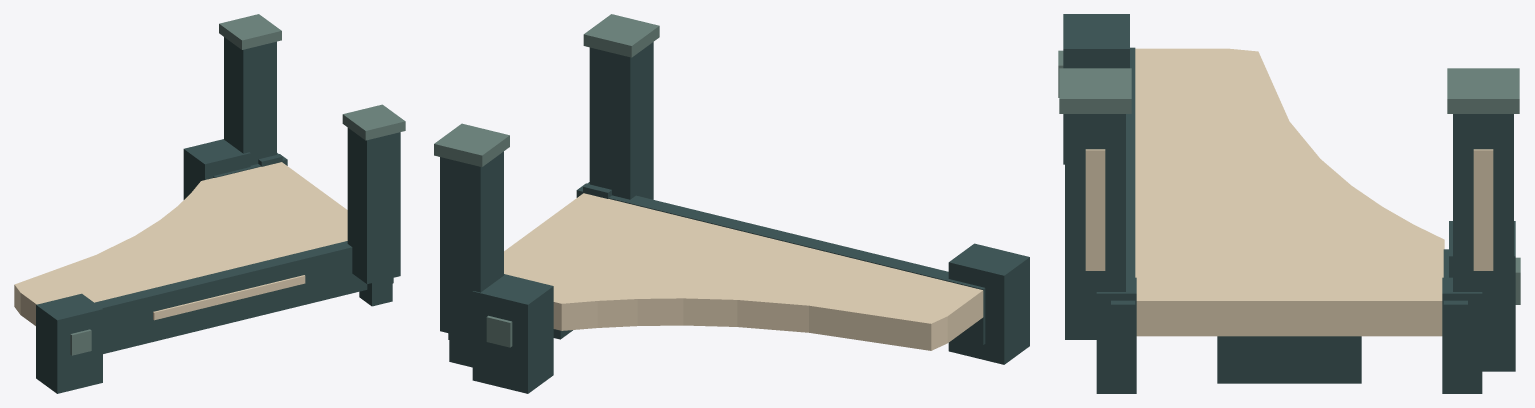
Rendered from Pier_Angled_75_Switch_lab2.glb.
3 views of the same model, side by side, from view 1: azimuth 30°, elevation 25°; view 2: azimuth 150°, elevation 25°; view 3: azimuth 270°, elevation 25° (orthographic). The views are drawn at different scales.
Parts seen in each view (by area): view 1: Pier_Angled_75_Switch; view 2: Pier_Angled_75_Switch; view 3: Pier_Angled_75_Switch.
Boxes of the visible parts, x1,y1,x2,y2 form: Pier_Angled_75_Switch: [14, 14, 405, 393]; Pier_Angled_75_Switch: [434, 14, 1029, 393]; Pier_Angled_75_Switch: [1058, 14, 1520, 393].
Size of the model in its own units: 5.75 by 2.95 by 4.17.
